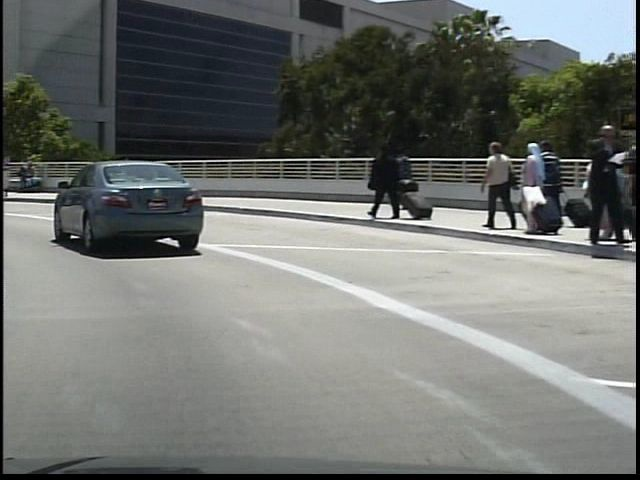person: (574, 119, 619, 245), (473, 135, 514, 232), (361, 139, 398, 221), (390, 145, 413, 209)
